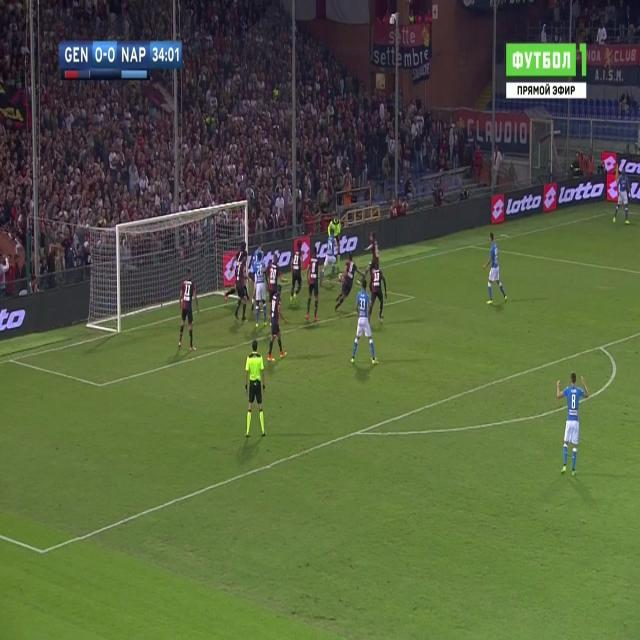Ball: (337, 270, 343, 282)
Player: (554, 370, 590, 480), (349, 279, 380, 368), (482, 230, 509, 306), (177, 266, 200, 354), (266, 284, 286, 366), (334, 255, 362, 312), (610, 165, 634, 228), (304, 245, 322, 326), (367, 260, 389, 324), (232, 250, 250, 327), (252, 250, 268, 330), (288, 239, 304, 307), (320, 231, 338, 282), (266, 252, 282, 303), (365, 229, 380, 264)
Referee: (242, 338, 268, 442), (325, 211, 343, 239)
